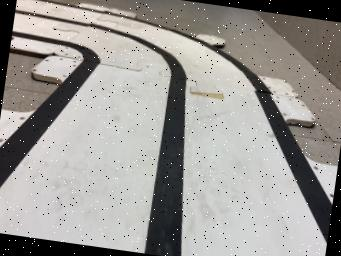street: (0, 0, 332, 256), (0, 0, 332, 256), (0, 0, 332, 256), (0, 0, 332, 256), (0, 0, 332, 256)
